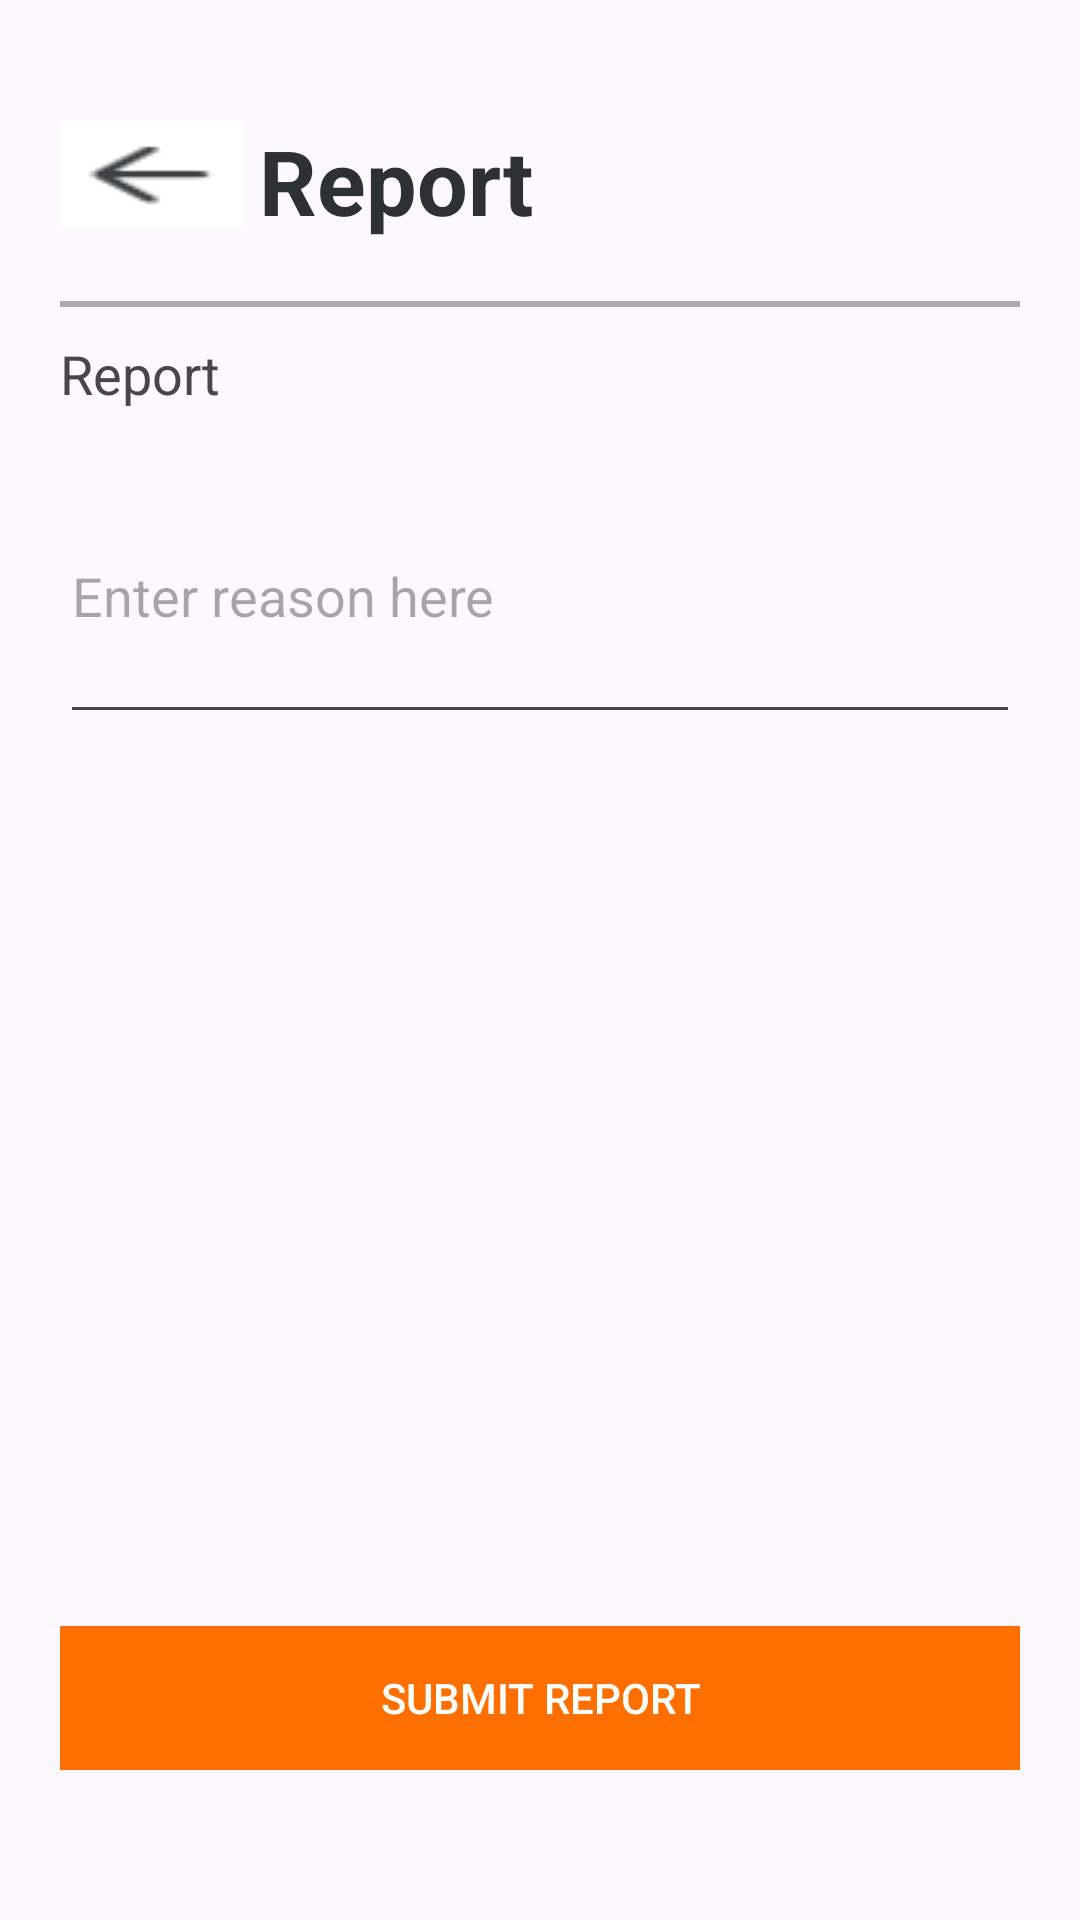

Icon click points for this 1080*1920 phone screenshot, format (x,y):
back: (150,175)
